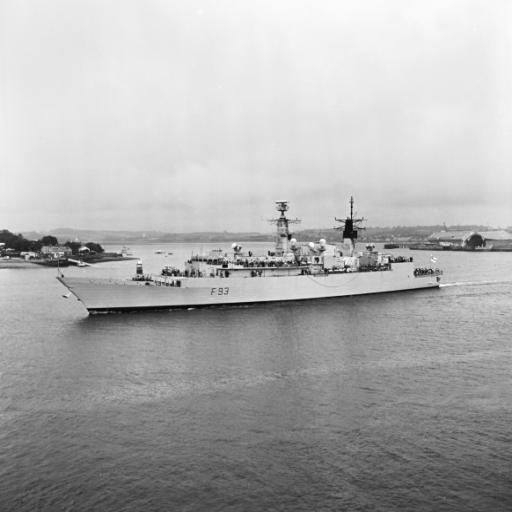Fragata: (50, 183, 448, 321)
